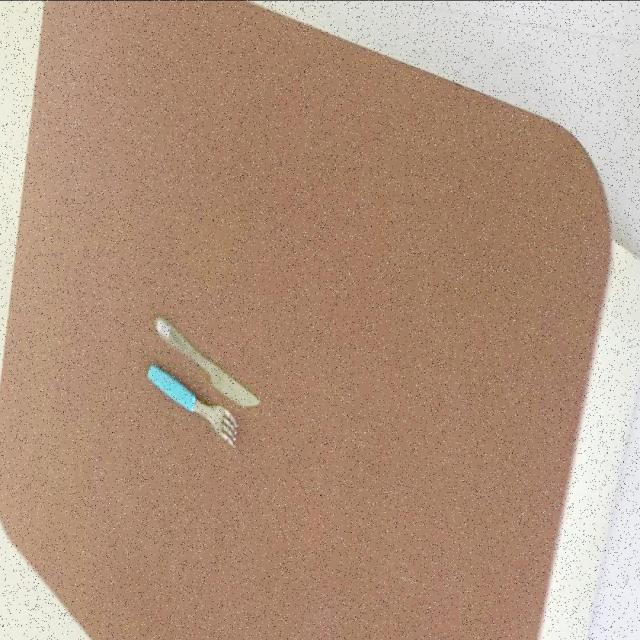Fork: (146, 362, 238, 446)
Knife: (153, 312, 261, 406)
